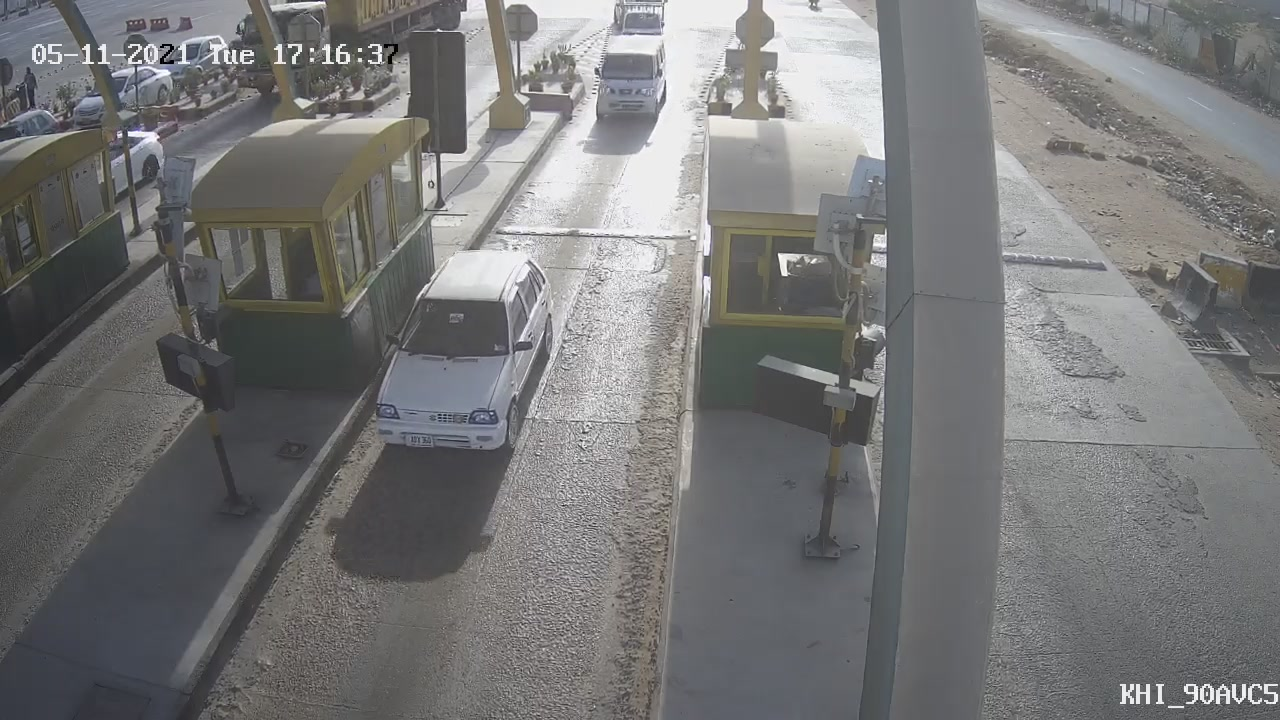F1: (339, 226, 574, 478), (570, 25, 682, 138)
